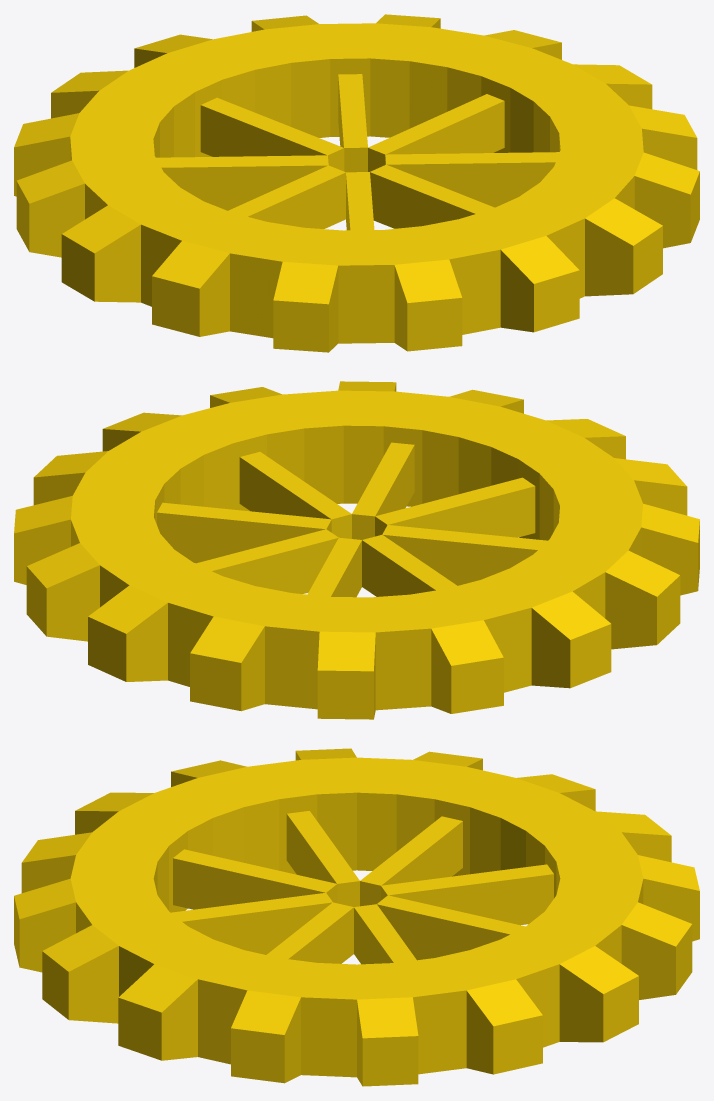
File: gearB.fbx
3 renders of one model, top to bottom at view 1: azimuth 30°, elevation 25°; view 2: azimuth 150°, elevation 25°; view 3: azimuth 270°, elevation 25°, orthographic.
Parts seen in each view (by area): view 1: Cylinder; view 2: Cylinder; view 3: Cylinder.
Boxes of the visible parts, box(x1,y1,x2,y2) form: Cylinder: box(14, 14, 699, 352); Cylinder: box(14, 381, 699, 719); Cylinder: box(14, 748, 699, 1086).
Bounding box in the file's own units: 240 × 29.96 × 240.
